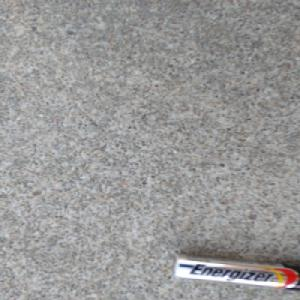Battery: (170, 253, 300, 293)
